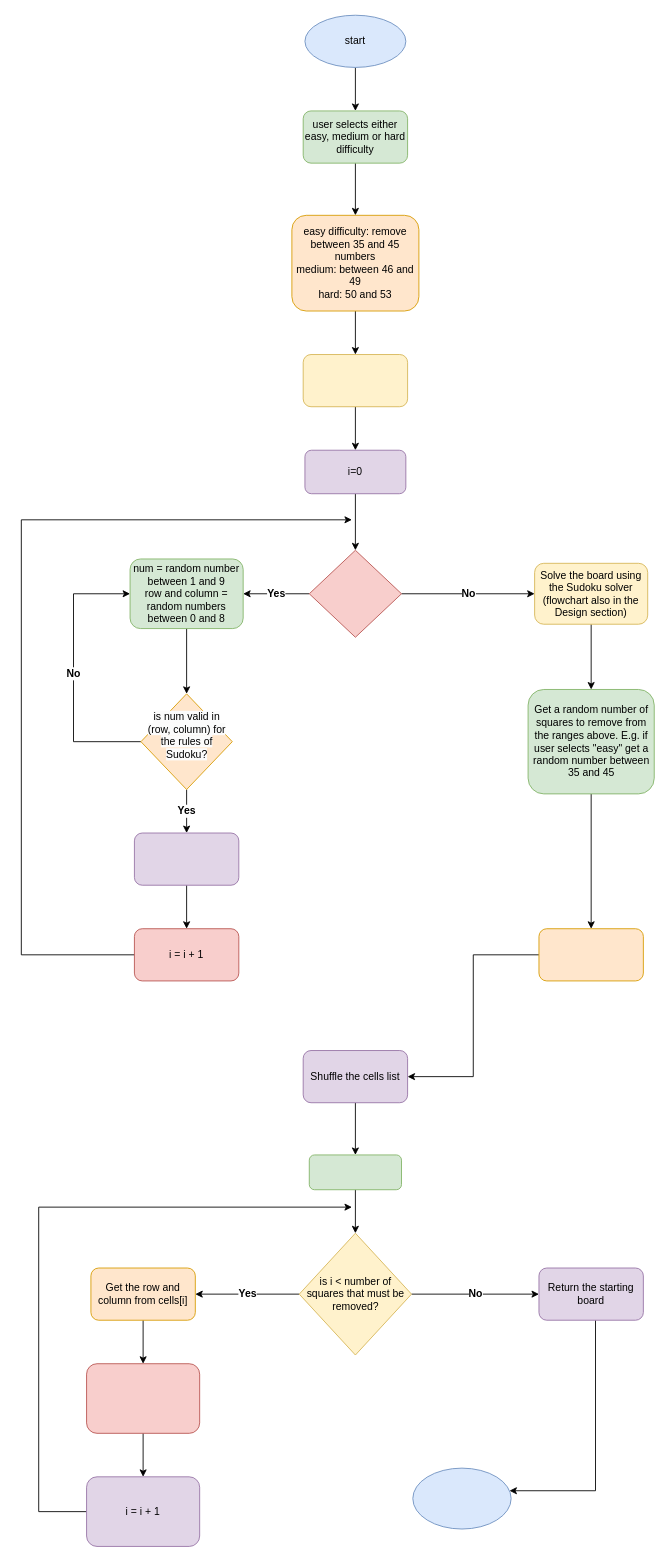
Some shapes in this 670 by 1562 pixel diagram are drawn without their labels. The box of each missing label's shape, as (x1, y1, x2, y2) in pixels:
board[row][column] = 0 (effectively resetting that piece on the board to be 0): (86, 1363, 200, 1433)
cells = a list of all 81 possible row and column combinations: (538, 928, 643, 981)
create an empty 9x9 2D array to model the board: (302, 354, 408, 407)
end: (412, 1467, 511, 1529)
i = 0: (308, 1154, 402, 1190)
is i < 13?: (308, 549, 402, 637)
place the number into the board at the (row, column): (134, 832, 239, 885)
